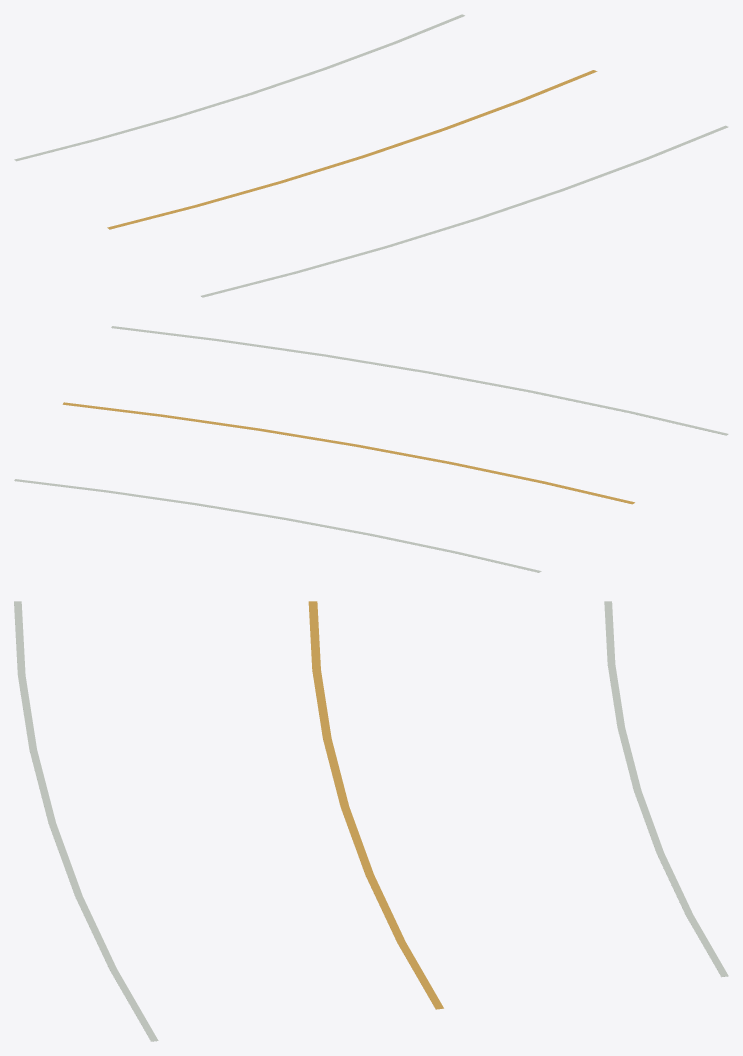
File: RoadPlan_CurveMarking_2L_A15_R36.glb
3 views of the same model, one above another, from view 1: azimuth 30°, elevation 25°; view 2: azimuth 150°, elevation 25°; view 3: azimuth 270°, elevation 25° (orthographic). The views are drawn at different scales.
Visible parts, largest first — view 1: RoadPlan_CurveMarking_2L_A15_R36_Center, RoadPlan_CurveMarking_2L_A15_R36_EdgeRight, RoadPlan_CurveMarking_2L_A15_R36_EdgeLeft; view 2: RoadPlan_CurveMarking_2L_A15_R36_Center, RoadPlan_CurveMarking_2L_A15_R36_EdgeRight, RoadPlan_CurveMarking_2L_A15_R36_EdgeLeft; view 3: RoadPlan_CurveMarking_2L_A15_R36_Center, RoadPlan_CurveMarking_2L_A15_R36_EdgeRight, RoadPlan_CurveMarking_2L_A15_R36_EdgeLeft.
Part boxes in pixels (bbox=[...]): RoadPlan_CurveMarking_2L_A15_R36_Center: bbox=[107, 70, 597, 229]; RoadPlan_CurveMarking_2L_A15_R36_EdgeRight: bbox=[201, 125, 728, 297]; RoadPlan_CurveMarking_2L_A15_R36_EdgeLeft: bbox=[14, 14, 464, 161]; RoadPlan_CurveMarking_2L_A15_R36_Center: bbox=[62, 402, 634, 504]; RoadPlan_CurveMarking_2L_A15_R36_EdgeRight: bbox=[111, 326, 728, 435]; RoadPlan_CurveMarking_2L_A15_R36_EdgeLeft: bbox=[14, 479, 541, 572]; RoadPlan_CurveMarking_2L_A15_R36_Center: bbox=[308, 601, 443, 1009]; RoadPlan_CurveMarking_2L_A15_R36_EdgeRight: bbox=[14, 601, 158, 1041]; RoadPlan_CurveMarking_2L_A15_R36_EdgeLeft: bbox=[604, 601, 728, 977].
Size of the model in its own units: 10.06 by 0.0007 by 6.9.
